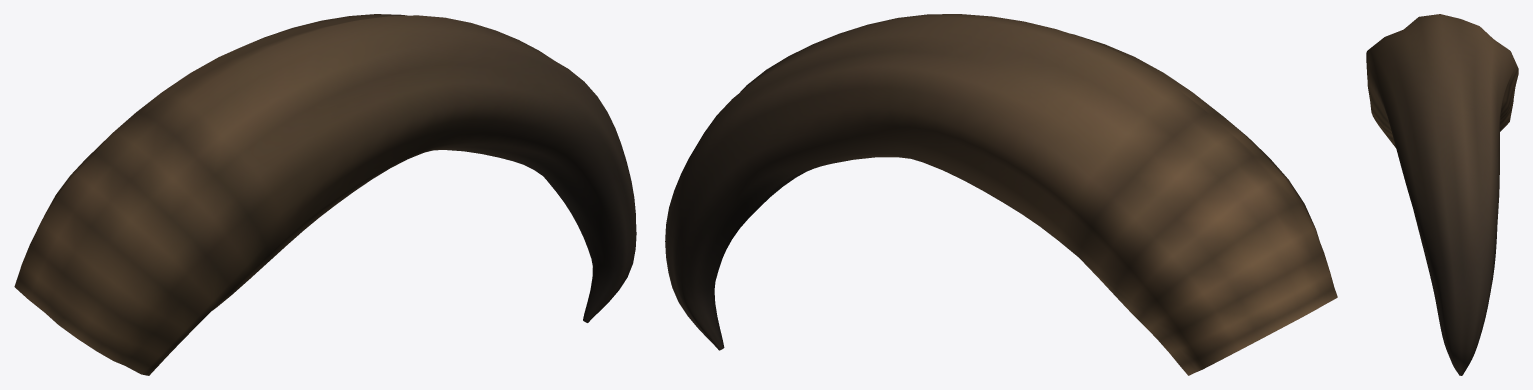
Rendered from eagle_claw.glb.
3 renders of one model, left to right at view 1: azimuth 30°, elevation 25°; view 2: azimuth 150°, elevation 25°; view 3: azimuth 270°, elevation 25°, orthographic. The views are drawn at different scales.
Visible parts, largest first — view 1: eagle_claw_mesh; view 2: eagle_claw_mesh; view 3: eagle_claw_mesh.
Boxes of the visible parts, <box> form: eagle_claw_mesh: <box>14,14,636,375</box>; eagle_claw_mesh: <box>665,14,1337,375</box>; eagle_claw_mesh: <box>1366,14,1518,375</box>.
Size of the model in its own units: 0.0939 by 0.0544 by 0.0301.
Materials: 1 (1 with a texture image).
